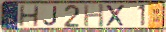1: (137, 4, 148, 28)
2: (64, 3, 81, 28)
H: (83, 3, 105, 28), (18, 5, 40, 28)
J: (43, 6, 59, 27)
X: (105, 4, 126, 28)
